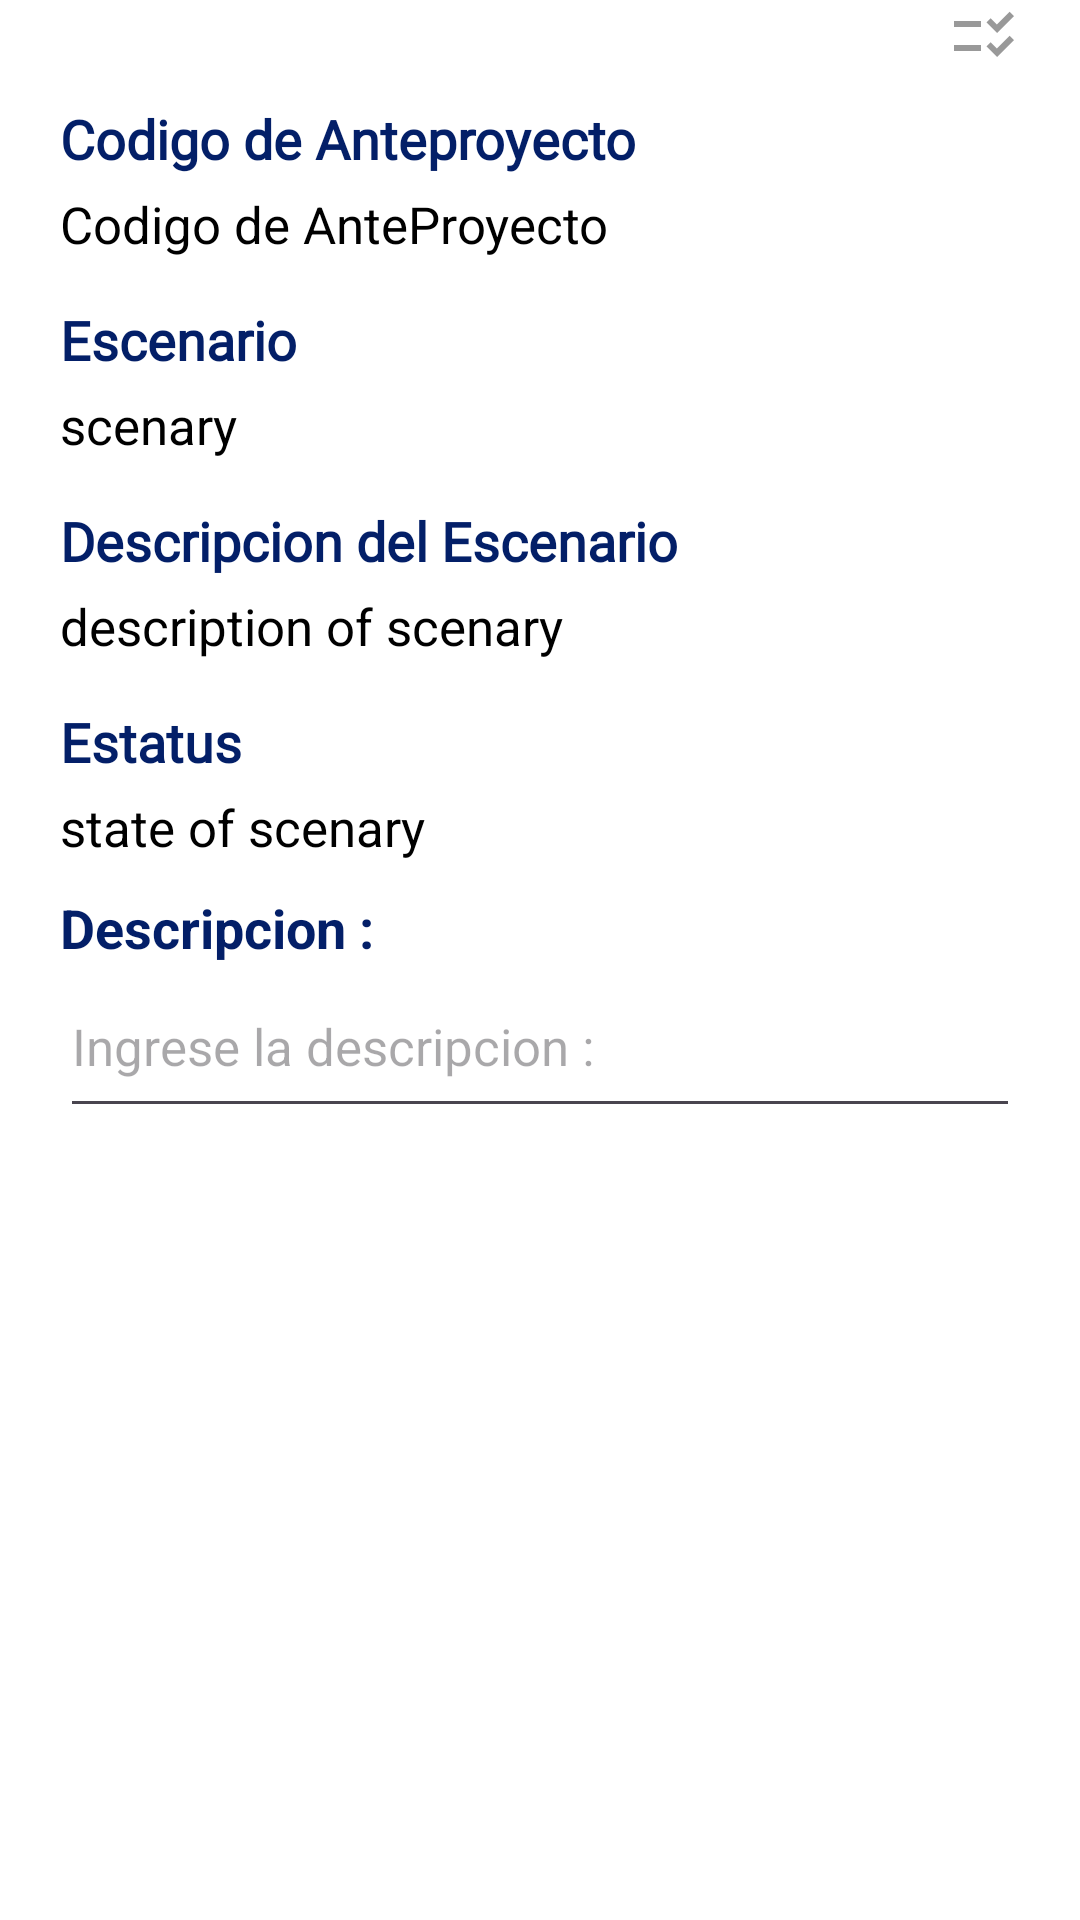

Icons on this 1080w x 1920h Android screen, each with its box as (x1, y1, x2, y2):
checklist rtl: (954, 12, 1014, 57)
